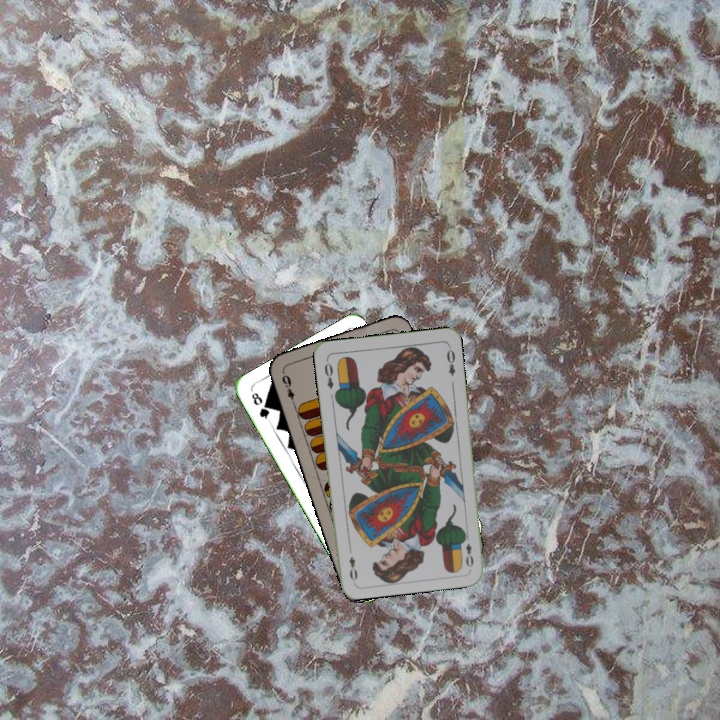E9: (278, 369, 298, 408)
EO: (459, 530, 476, 570), (320, 356, 336, 392)
G8: (247, 388, 272, 421)
